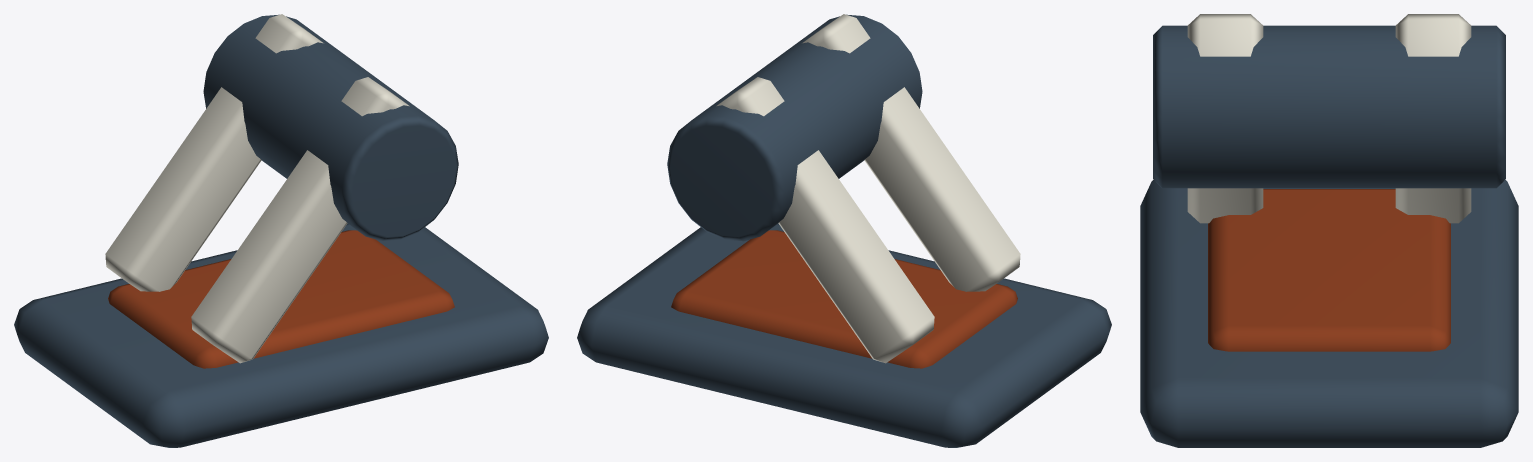
Rendered from SM_SSTO_LandingGear1.fbx.
3 views of the same model, side by side, from view 1: azimuth 30°, elevation 25°; view 2: azimuth 150°, elevation 25°; view 3: azimuth 270°, elevation 25° (orthographic). The views are drawn at different scales.
Parts seen in each view (by area): view 1: SM_SSTO_LandingGear1; view 2: SM_SSTO_LandingGear1; view 3: SM_SSTO_LandingGear1.
Boxes of the visible parts, x1,y1,x2,y2 form: SM_SSTO_LandingGear1: (14, 14, 548, 447); SM_SSTO_LandingGear1: (577, 14, 1111, 447); SM_SSTO_LandingGear1: (1140, 14, 1518, 447).
Size of the model in its own units: 179 by 120 by 124.
